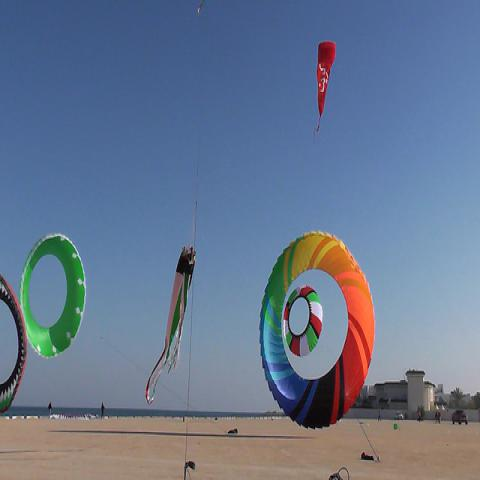car: (395, 412, 404, 420)
truck: (451, 410, 468, 425)
